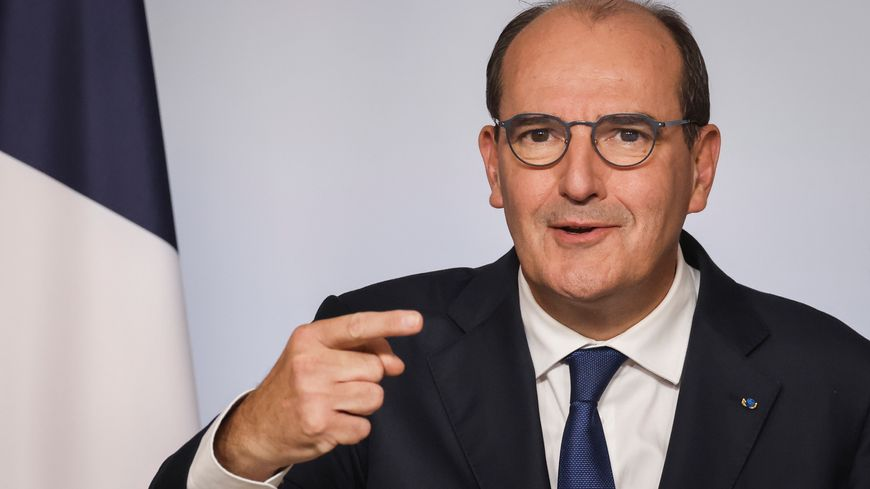without_mask: (476, 3, 721, 294)
